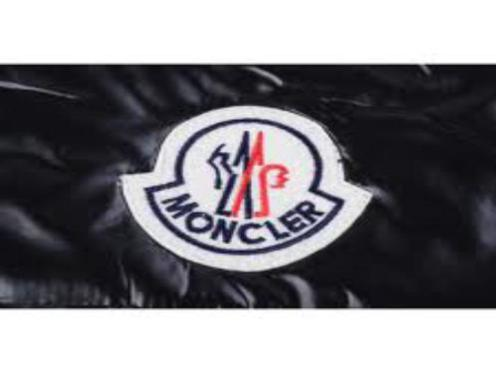MONCLER: (209, 123, 292, 224)
